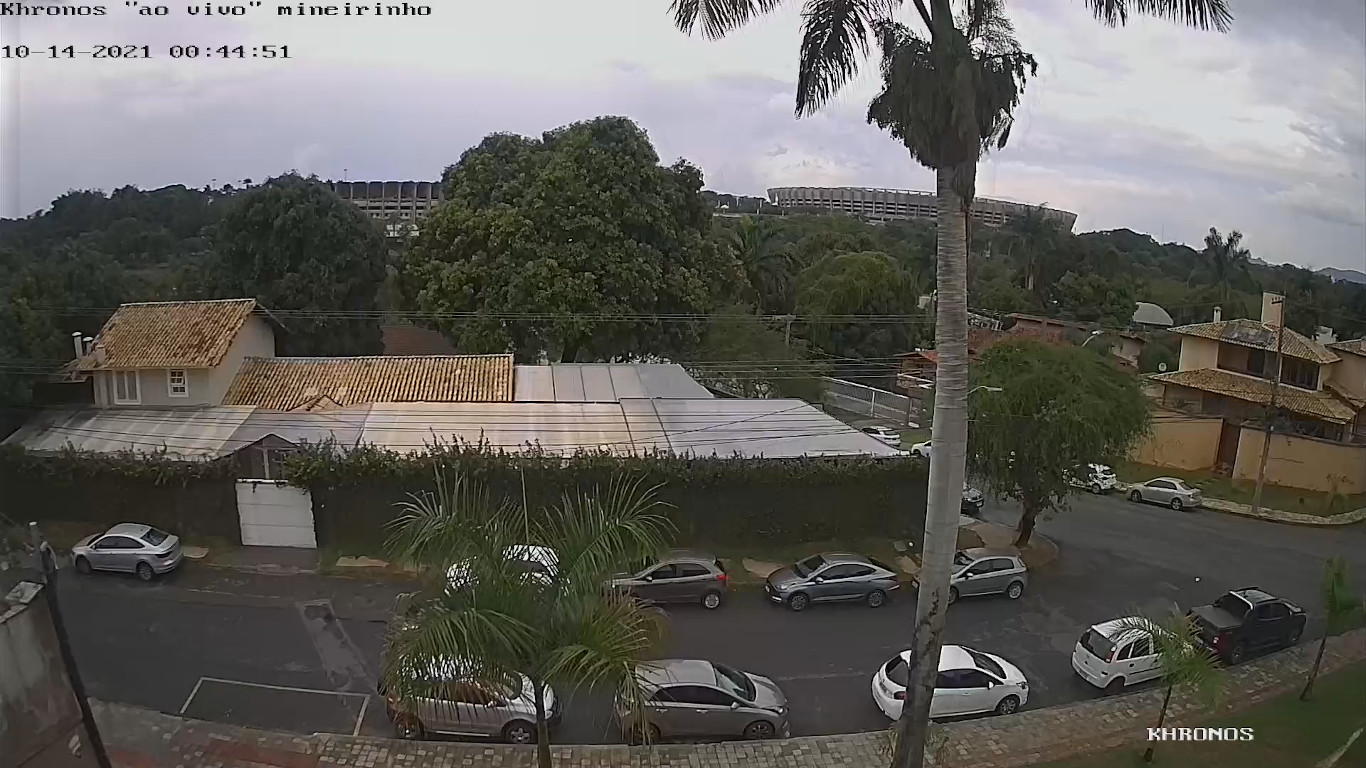car: (385, 645, 560, 747), (609, 657, 793, 748), (868, 643, 1031, 729), (1069, 614, 1198, 697), (1185, 586, 1309, 667), (763, 549, 901, 613), (595, 547, 728, 611), (67, 520, 185, 583), (908, 543, 1030, 602), (1123, 475, 1203, 513)
